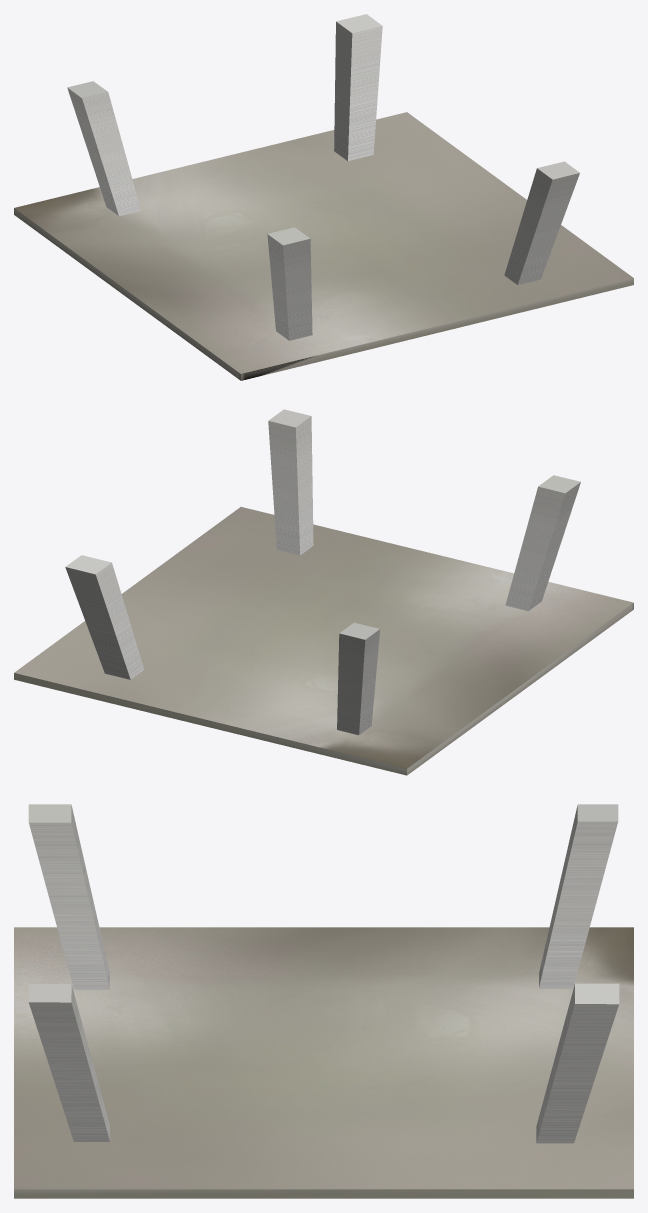
File: Table.glb
3 renders of one model, top to bottom at view 1: azimuth 30°, elevation 25°; view 2: azimuth 150°, elevation 25°; view 3: azimuth 270°, elevation 25°, orthographic. The views are drawn at different scales.
Parts seen in each view (by area): view 1: top, legs; view 2: top, legs; view 3: top, legs.
Boxes of the visible parts, x1,y1,x2,y2 form: top: [14, 112, 633, 380]; legs: [67, 14, 579, 340]; top: [14, 507, 633, 775]; legs: [65, 409, 580, 735]; top: [14, 927, 633, 1198]; legs: [28, 804, 619, 1143].
Bounding box in the file's own units: 24 × 7 × 24.
2 materials, 2 textured.
